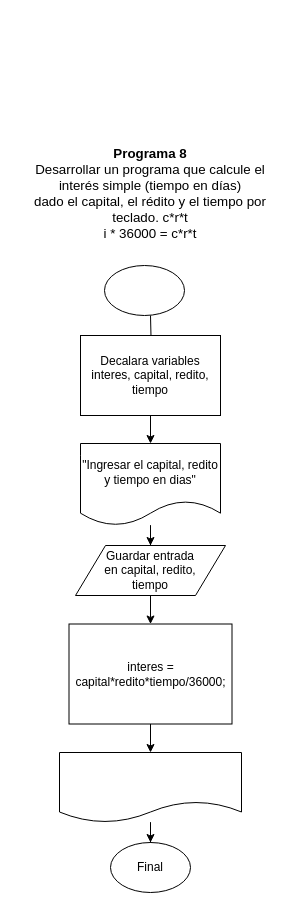
Some shapes in this 300 by 910 pixel diagram are drawn without their labels. Here are the shapes that lost their labels. From the top down, the centre of each, then its label:
At (x=144, y=290): "Inicio".
At (x=150, y=787): "interes".
